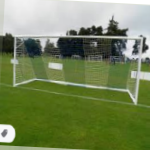goals: (12, 32, 147, 107)
